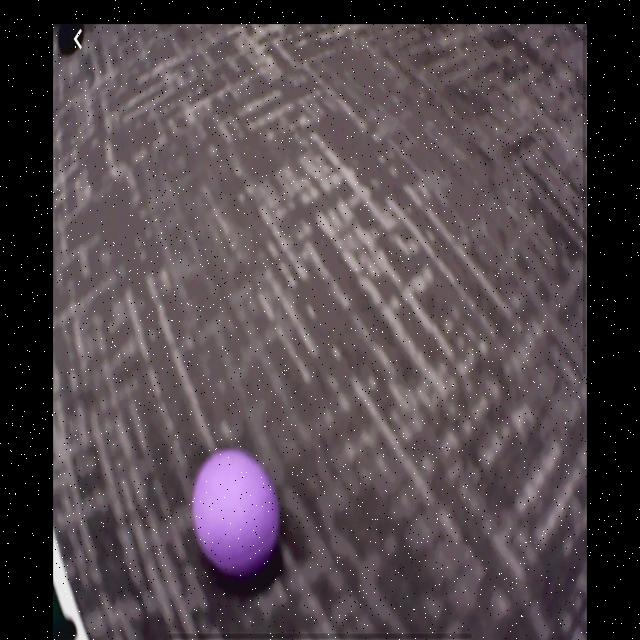ball: (192, 448, 281, 579)
